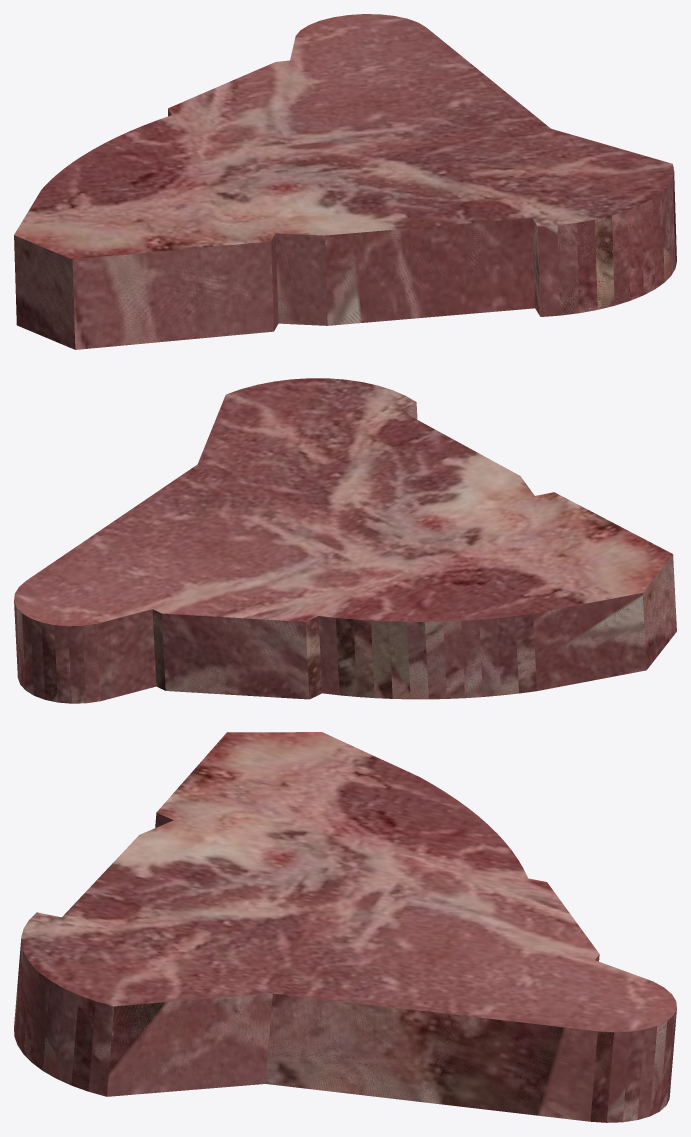
The model's file is Steak.fbx.
The picture shows the model from 3 angles, top to bottom: view 1: azimuth 30°, elevation 25°; view 2: azimuth 150°, elevation 25°; view 3: azimuth 270°, elevation 25°; orthographic projection. The views are drawn at different scales.
Visible parts, largest first — view 1: Group1; view 2: Group1; view 3: Group1.
Part boxes in pixels (x1=…): Group1: x1=14, y1=14, x2=676, y2=349; Group1: x1=14, y1=378, x2=676, y2=703; Group1: x1=14, y1=732, x2=676, y2=1122.
Size of the model in its own units: 1.87 by 0.4158 by 1.85.
